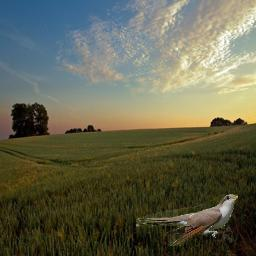Cuckoo: (136, 194, 238, 246)
